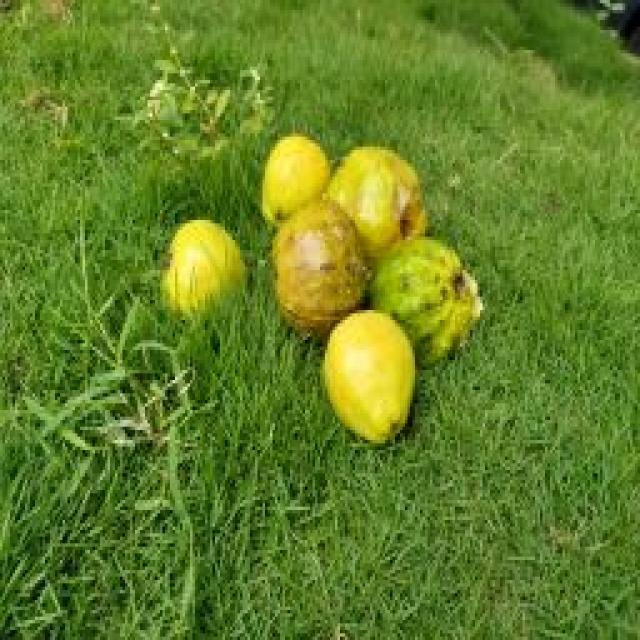Organik: (379, 224, 492, 377), (317, 130, 439, 254), (144, 200, 252, 340), (321, 314, 417, 450), (275, 208, 373, 340), (254, 120, 334, 216)
